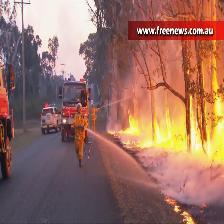fire: (110, 100, 222, 167)
